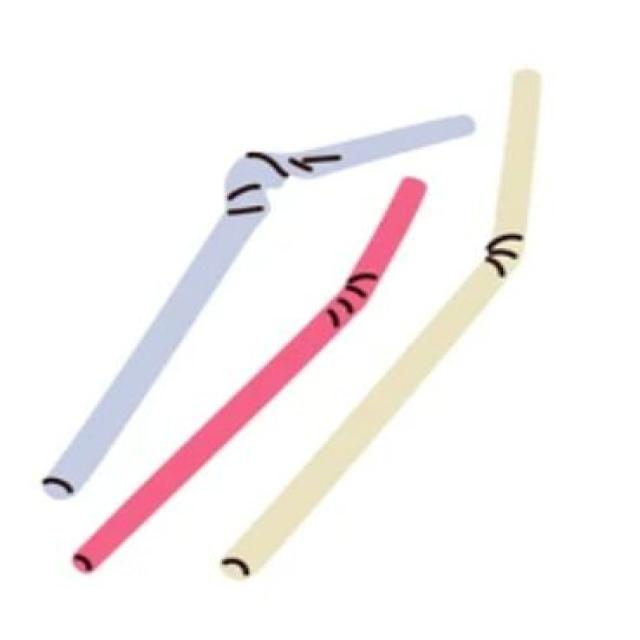electronic: (52, 170, 448, 586)
